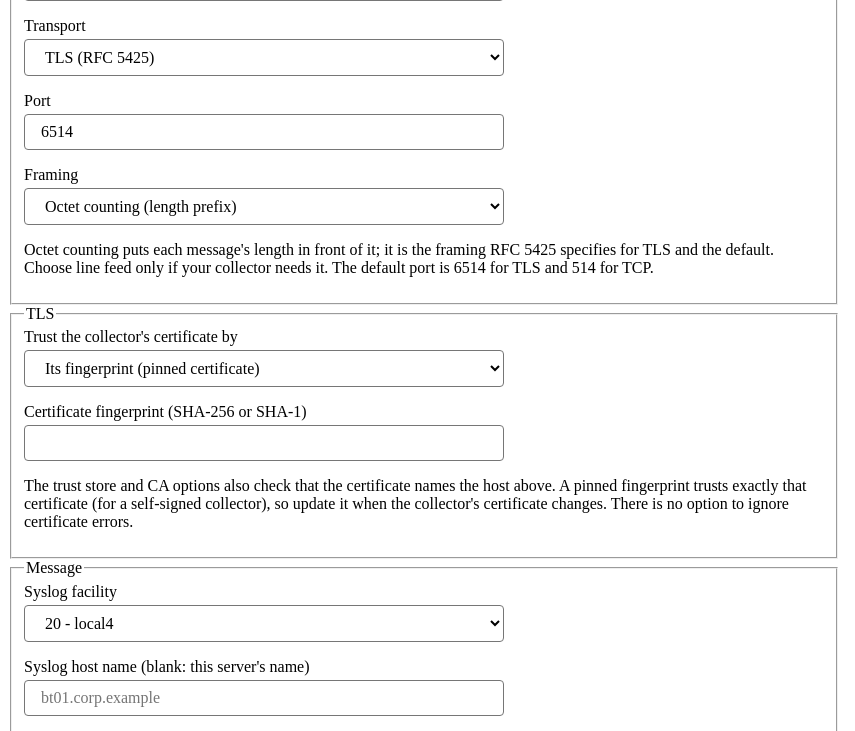
it: SiemForwarding.vue › shows the TLS options only for TLS, and the fingerprint or CA field for its mode
(page scrolled)
Select "A CA certificate given here" in the dropdown labelled "Trust the collector's certificate by" at (264, 369), box [24, 350, 504, 387]
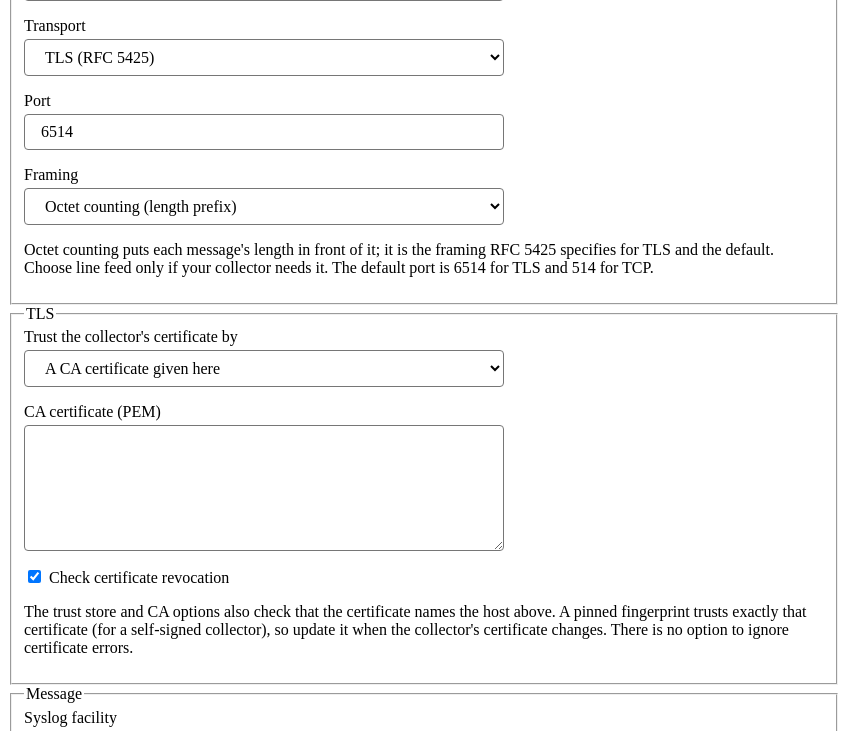
expect the text box labelled "CA certificate (PEM)" is shown: met, box [24, 425, 504, 551]
Select "TCP, not encrypted (RFC 6587)" in the dropdown labelled "Transport" at (264, 57), box [24, 39, 504, 76]
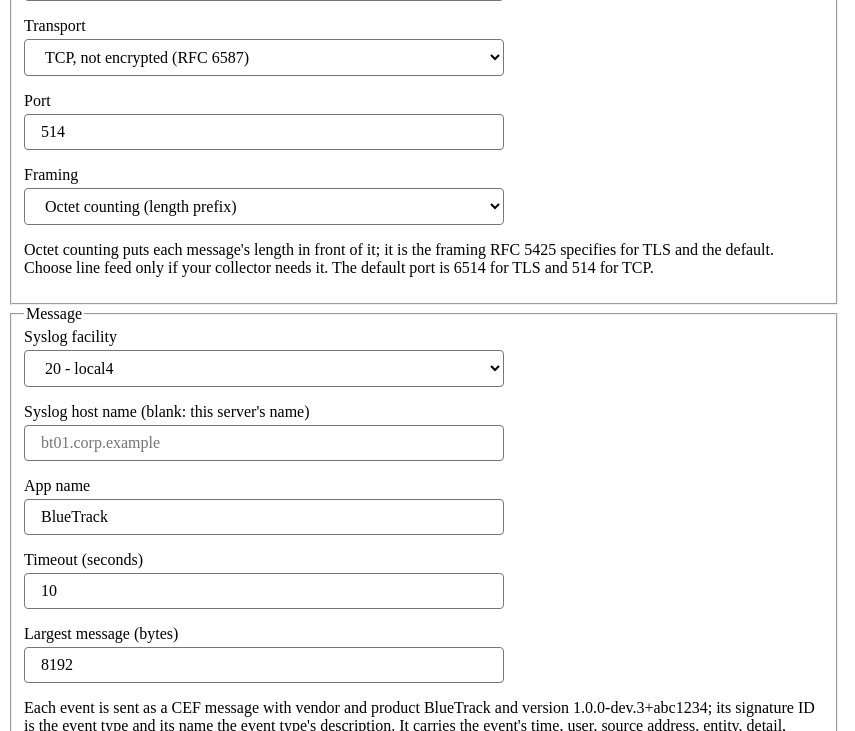
expect the text "Trust the collector" is gone: met
expect the number field labelled "Port" holds "514": met, box [24, 114, 504, 150]
